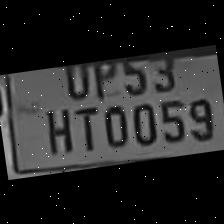0: (96, 98, 131, 150), (125, 95, 160, 147)
3: (144, 50, 178, 94)
5: (154, 93, 189, 145), (114, 54, 150, 96)
9: (182, 91, 218, 143)
H: (37, 101, 77, 156)
P: (88, 57, 121, 100)
T: (69, 100, 103, 154)
U: (57, 62, 92, 102)
